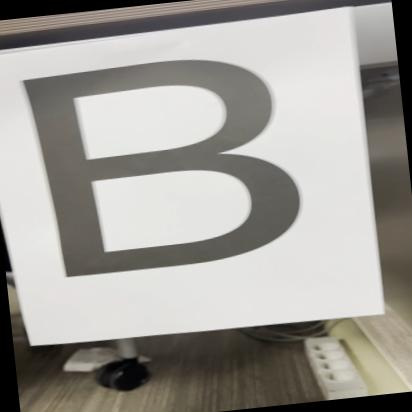seat: (3, 40, 306, 296)
